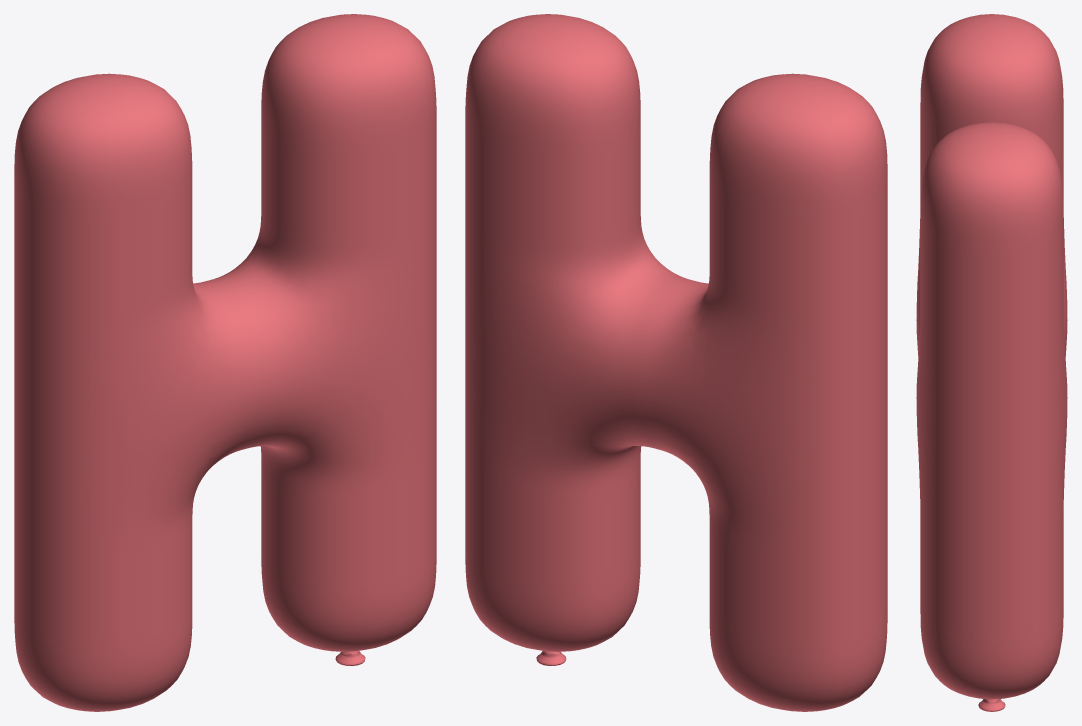
The model's file is LetterH.glb.
The picture shows the model from 3 angles, left to right: view 1: azimuth 30°, elevation 25°; view 2: azimuth 150°, elevation 25°; view 3: azimuth 270°, elevation 25°; orthographic projection. The views are drawn at different scales.
Parts seen in each view (by area): view 1: H; view 2: H; view 3: H.
Boxes of the visible parts, x1,y1,x2,y2 form: H: [14, 14, 436, 711]; H: [465, 14, 887, 711]; H: [916, 14, 1067, 711].
Bounding box in the file's own units: 2.13 × 3.23 × 0.7741.
